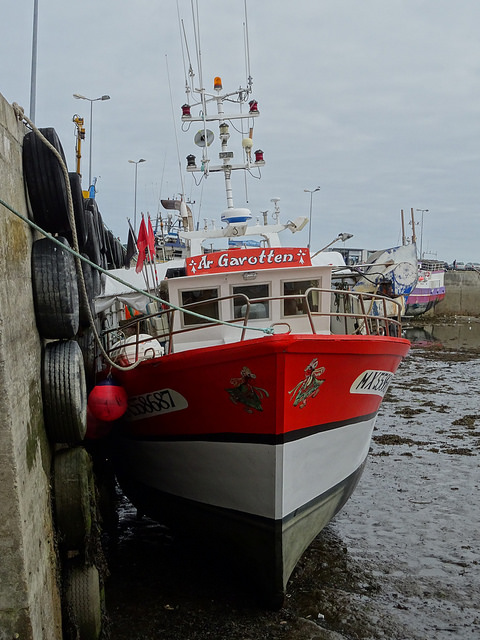fishing_boat: (94, 14, 416, 591)
